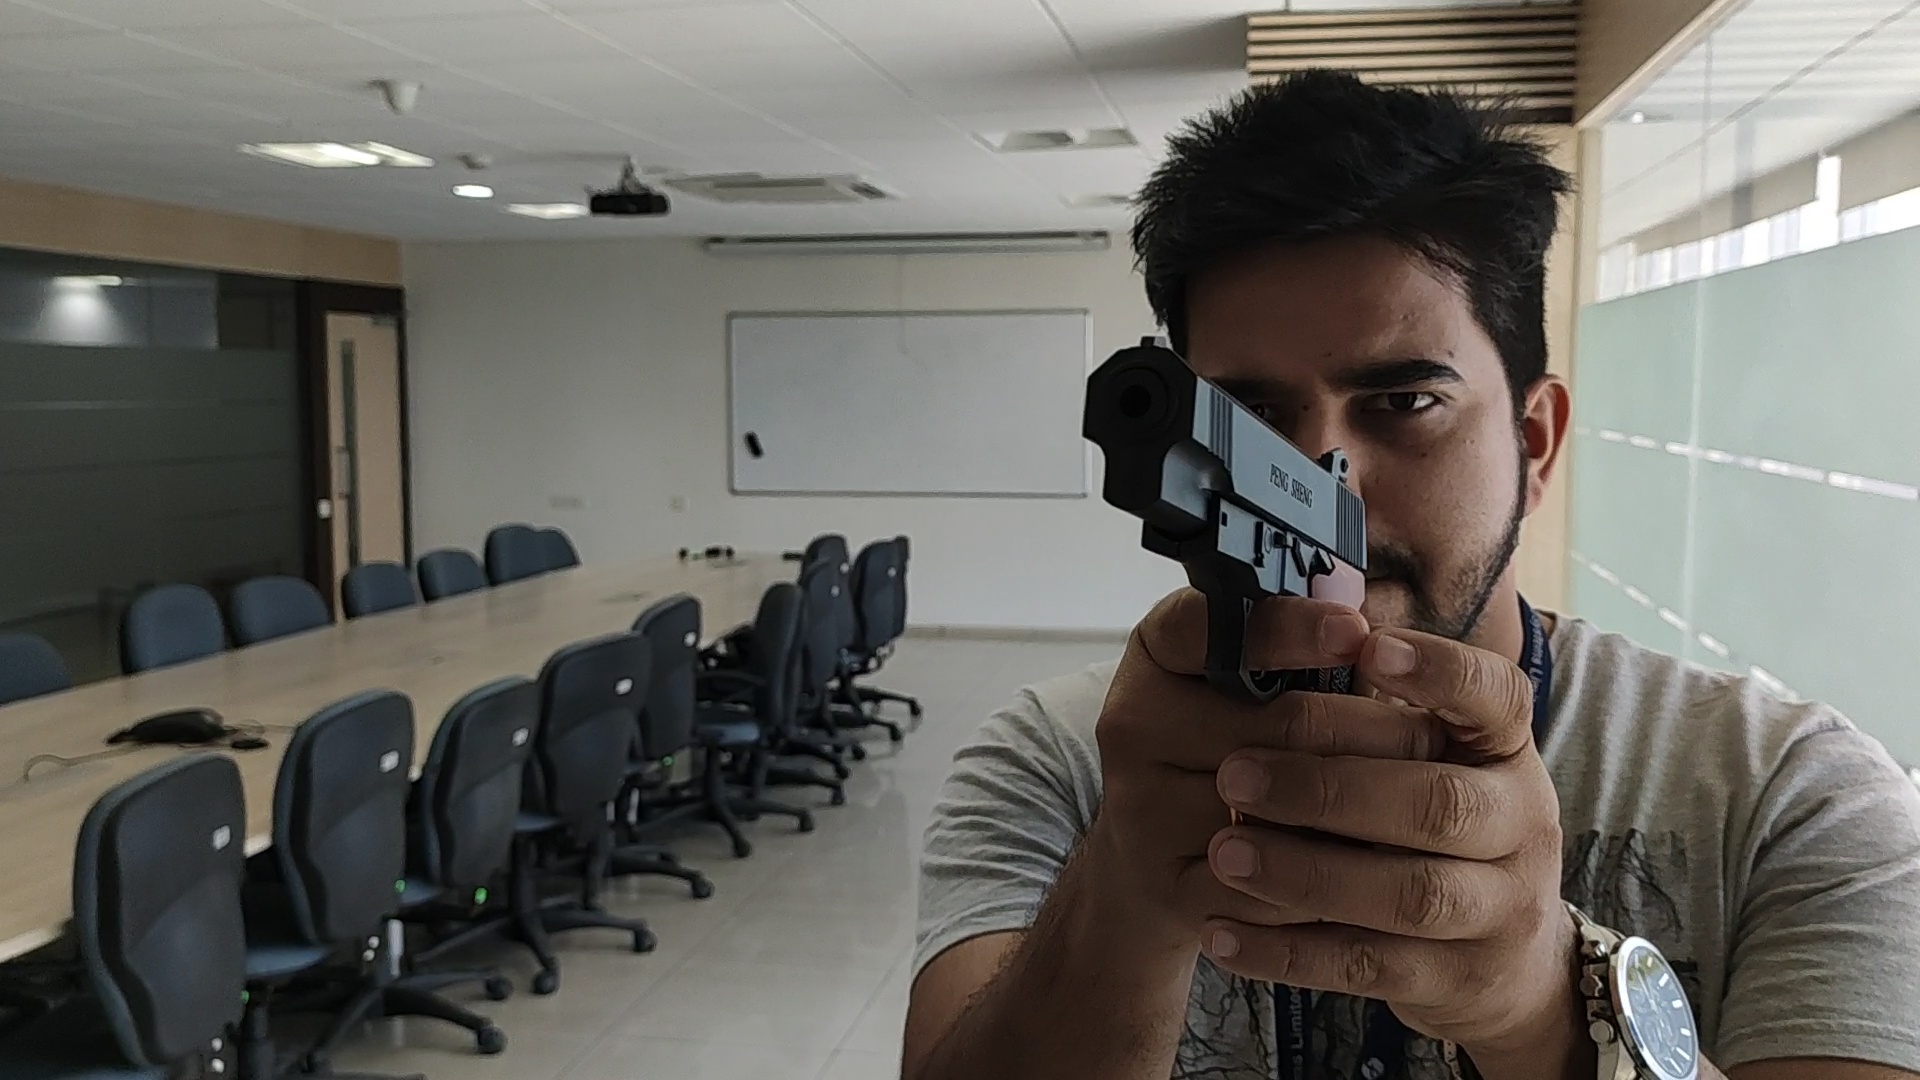gun: (1083, 338, 1346, 593)
